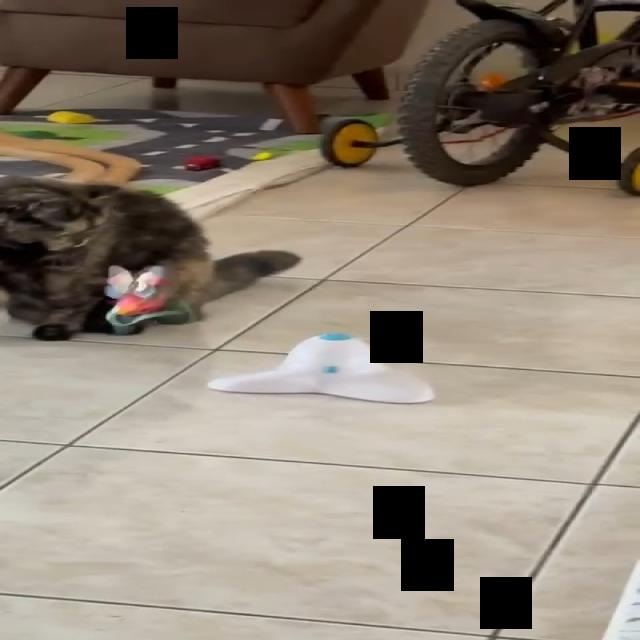authorized: (0, 173, 301, 341)
